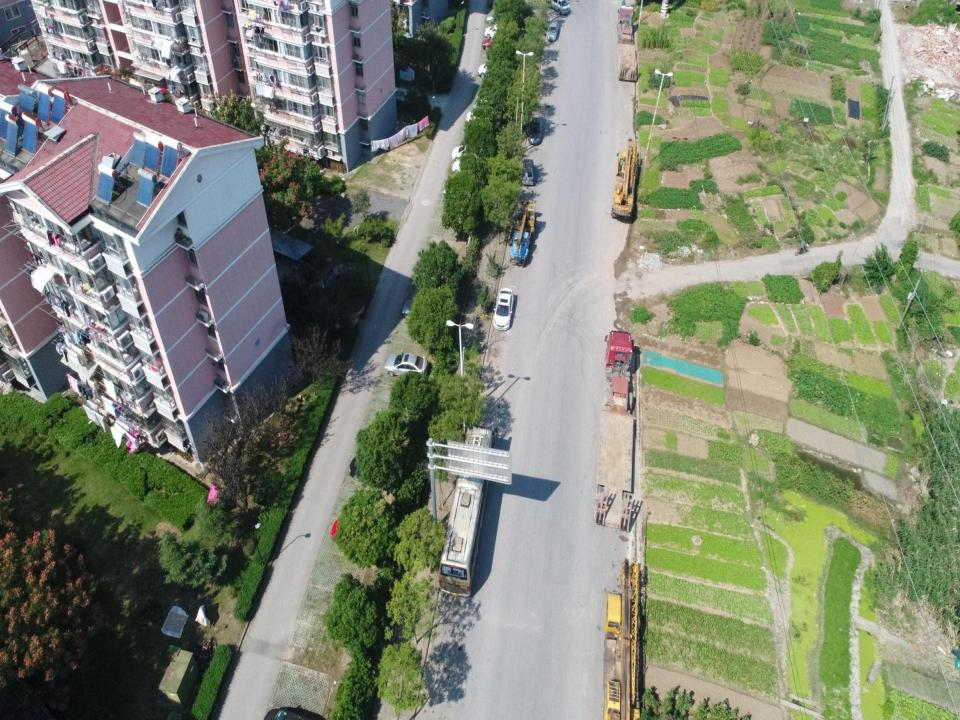bus: (438, 424, 493, 598)
car: (330, 518, 381, 544), (348, 455, 395, 481), (384, 352, 428, 377), (401, 296, 442, 320), (493, 287, 514, 331), (452, 157, 486, 175), (451, 143, 484, 160), (443, 181, 475, 198), (478, 61, 505, 79), (466, 109, 496, 125), (528, 114, 542, 145), (484, 24, 513, 38), (482, 38, 508, 52), (476, 91, 499, 106), (486, 12, 511, 25), (547, 20, 559, 41)
truck: (594, 330, 632, 532), (617, 6, 637, 82)
van: (264, 706, 326, 720), (522, 158, 534, 186), (550, 0, 570, 15)
